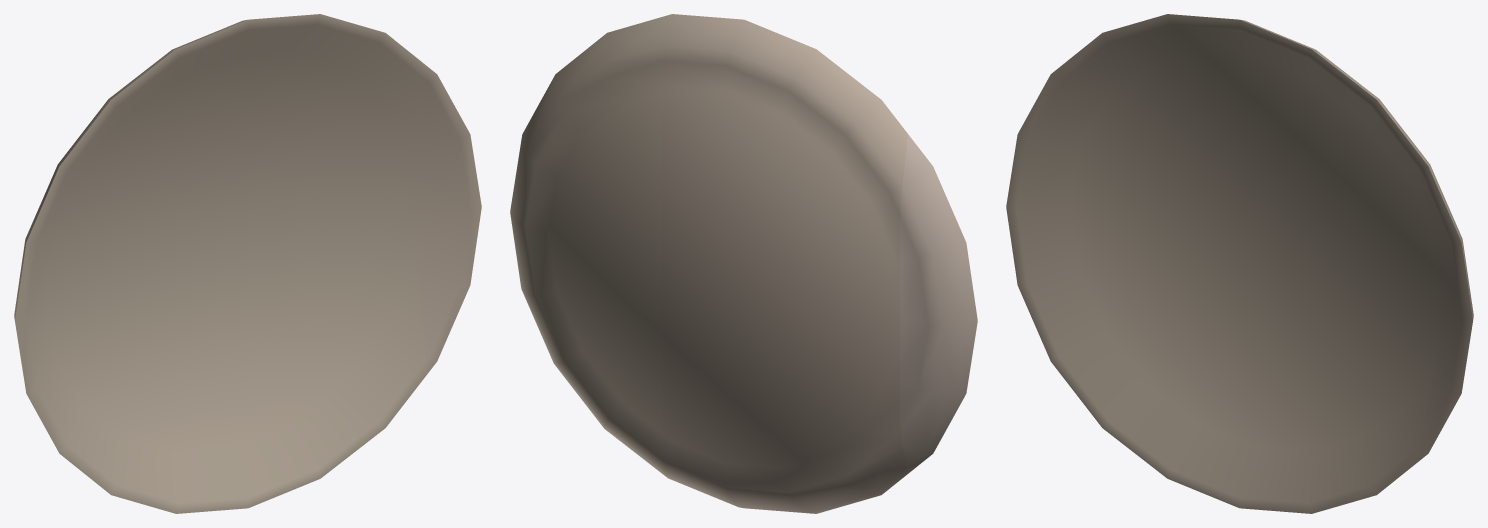
File: nt_2020_dish_02_LOD0.obj
The picture shows the model from 3 angles, left to right: view 1: azimuth 30°, elevation 25°; view 2: azimuth 150°, elevation 25°; view 3: azimuth 330°, elevation 25°; orthographic projection.
Visible parts, largest first — view 1: mtl_nt_2020_dishes_01; view 2: mtl_nt_2020_dishes_01; view 3: mtl_nt_2020_dishes_01.
Boxes of the visible parts, x1,y1,x2,y2 form: mtl_nt_2020_dishes_01: [14, 14, 481, 513]; mtl_nt_2020_dishes_01: [510, 14, 977, 513]; mtl_nt_2020_dishes_01: [1006, 14, 1473, 513].
Size of the model in its own units: 21.08 by 21.08 by 1.53.
